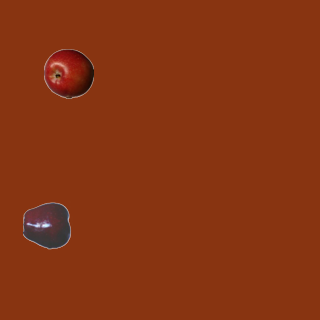Apple Braeburn: (43, 48, 93, 98)
Apple Red Delicious: (22, 200, 72, 250)
